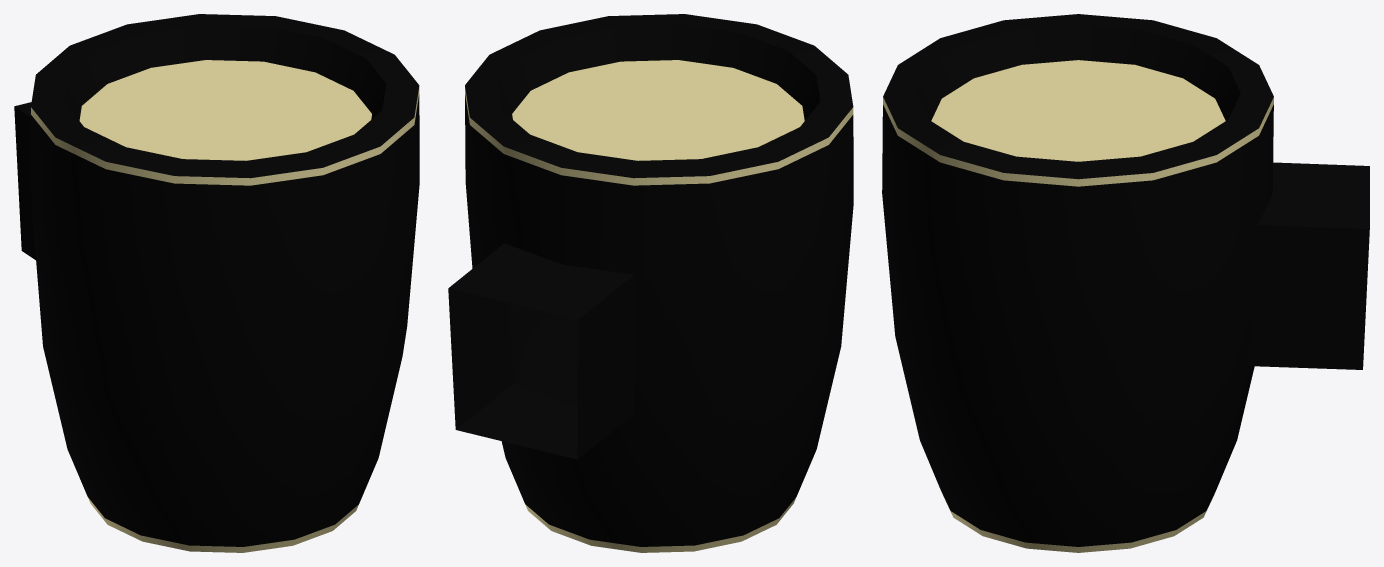
Rendered from Faretto_exp.fbx.
The picture shows the model from 3 angles, left to right: view 1: azimuth 30°, elevation 25°; view 2: azimuth 150°, elevation 25°; view 3: azimuth 270°, elevation 25°; orthographic projection.
Parts seen in each view (by area): view 1: Sphere; view 2: Sphere; view 3: Sphere.
Boxes of the visible parts, box(x1,y1,x2,y2) form: Sphere: box(14, 14, 419, 552); Sphere: box(448, 14, 853, 552); Sphere: box(882, 14, 1369, 552).
Bounding box in the file's own units: 116 × 131 × 144.
